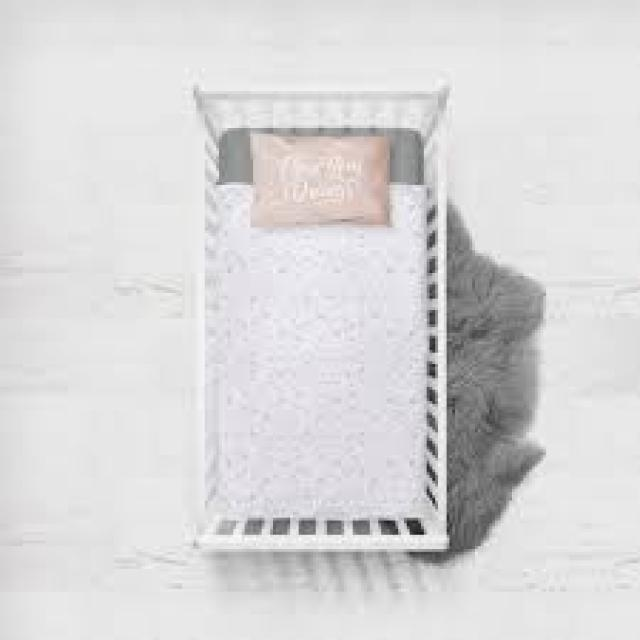crib: (188, 77, 452, 554)
